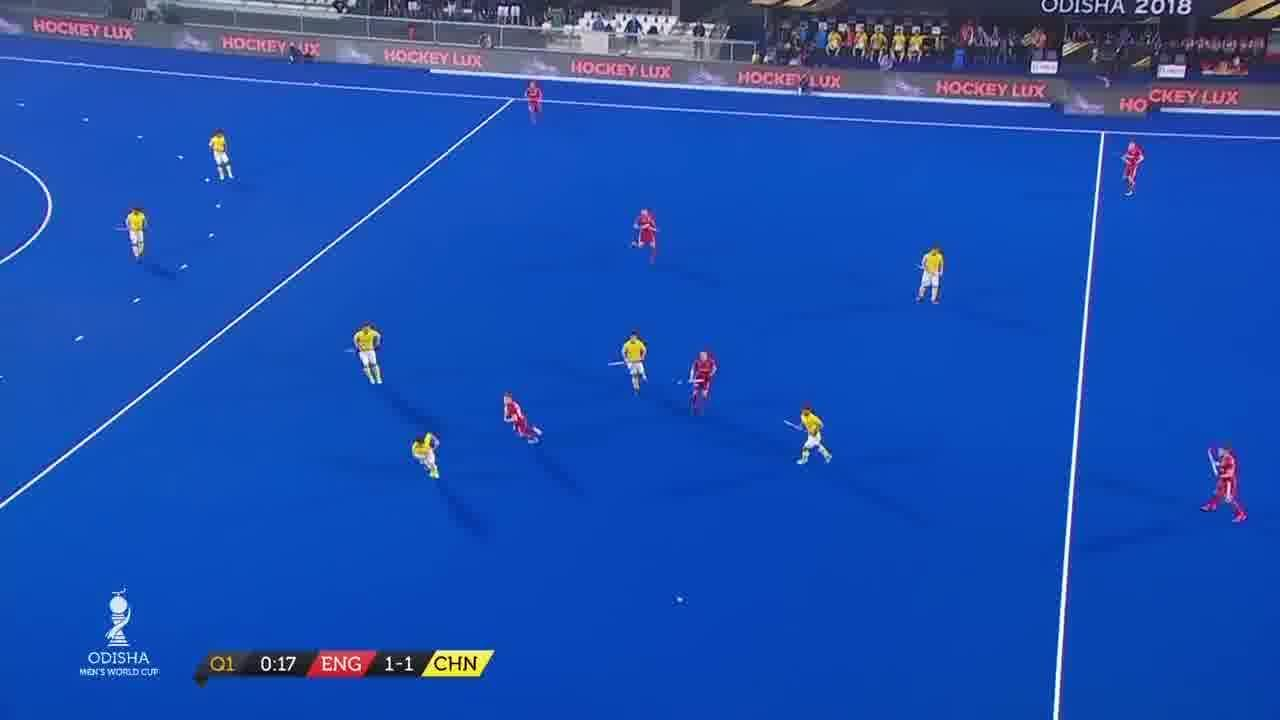ball: (673, 594, 687, 606)
